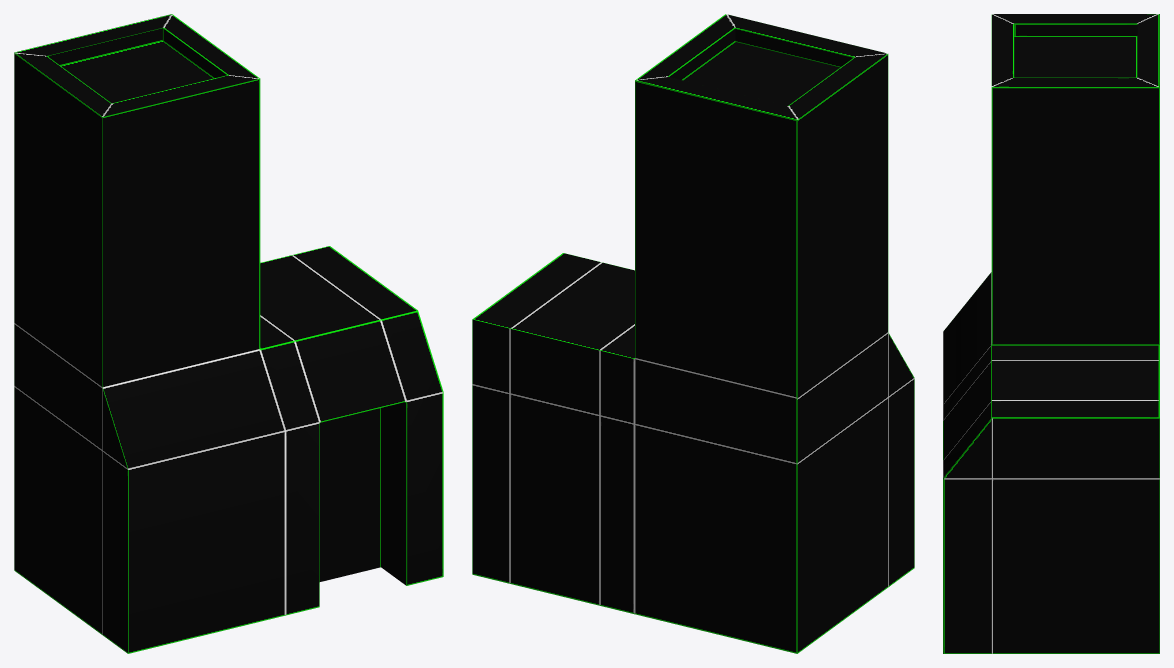
Rendered from Tower.FBX.
3 views of the same model, side by side, from view 1: azimuth 30°, elevation 25°; view 2: azimuth 150°, elevation 25°; view 3: azimuth 270°, elevation 25° (orthographic). The views are drawn at different scales.
Parts seen in each view (by area): view 1: Tower; view 2: Tower; view 3: Tower.
Boxes of the visible parts, bbox=[...] form: Tower: bbox=[14, 14, 443, 653]; Tower: bbox=[472, 14, 914, 653]; Tower: bbox=[943, 14, 1159, 653].
Size of what is drawn, in the model's own units: 0.7874 by 1.24 by 0.4921.
1 material, 1 textured.
